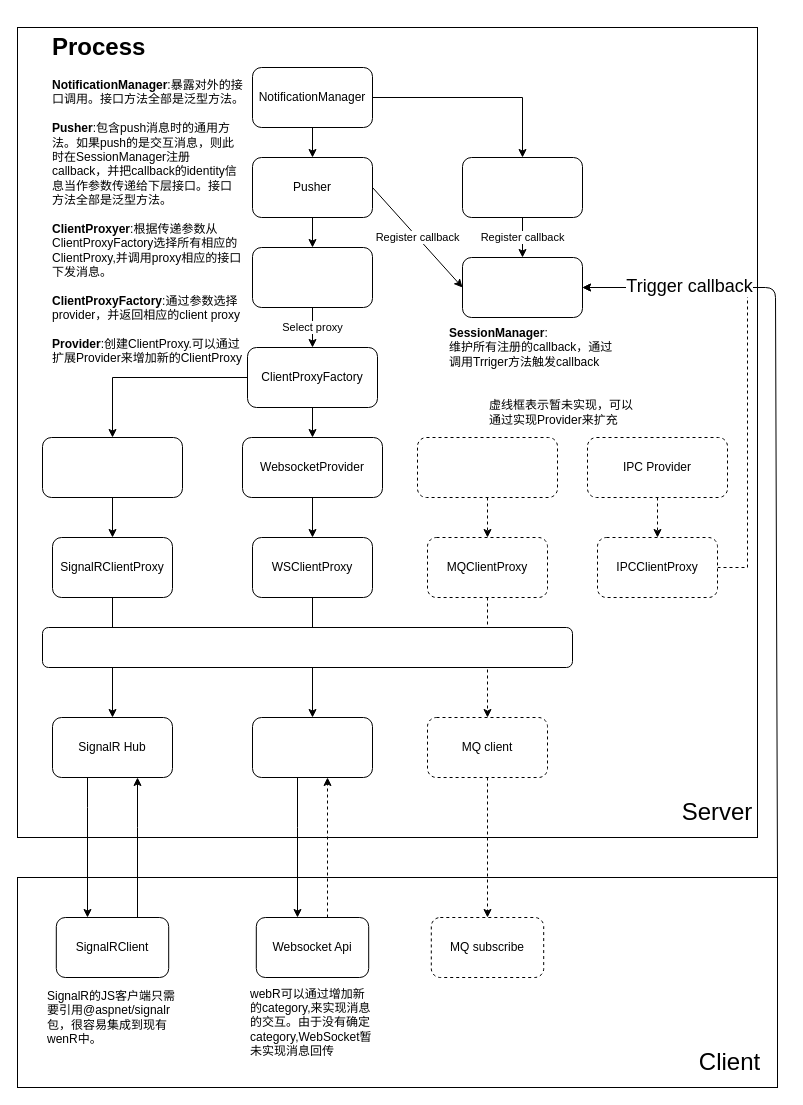
The diagram is 803 pixels wide and 1105 high, and some of its shapes have lost their labels. The centre of each missing label's shape, as x and y in pixels:
ClientProxyer: point 312,277
Json serialization: point 307,647
MQProvider: point 487,467
SessionManager: point 522,287
SignalRProvider: point 112,467
Subscriber: point 522,187
Websocket Send(): point 312,747
